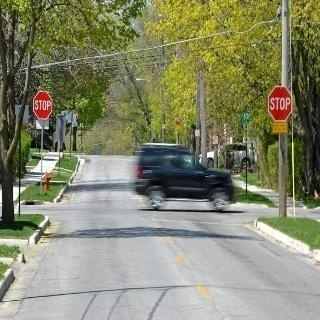sign_stop: (266, 86, 293, 119), (31, 90, 56, 116)
